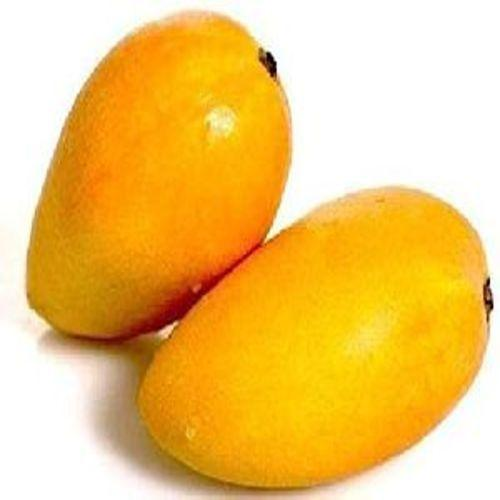mango: (135, 183, 494, 490), (23, 7, 293, 342)
